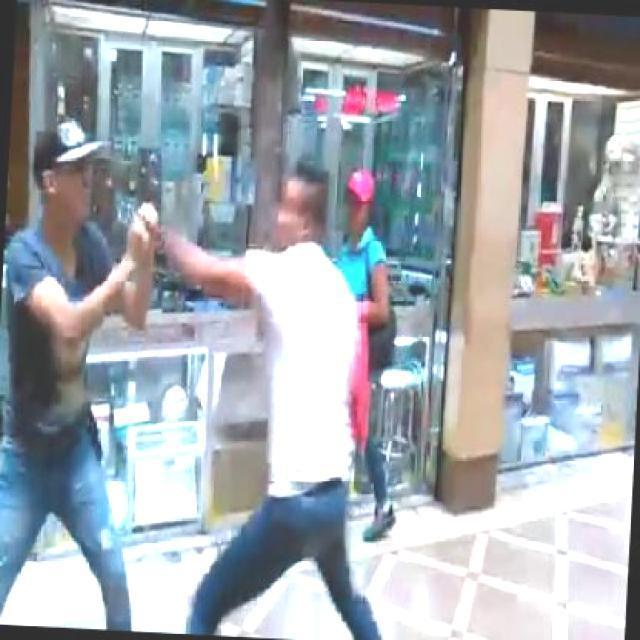fight: (0, 116, 366, 638)
